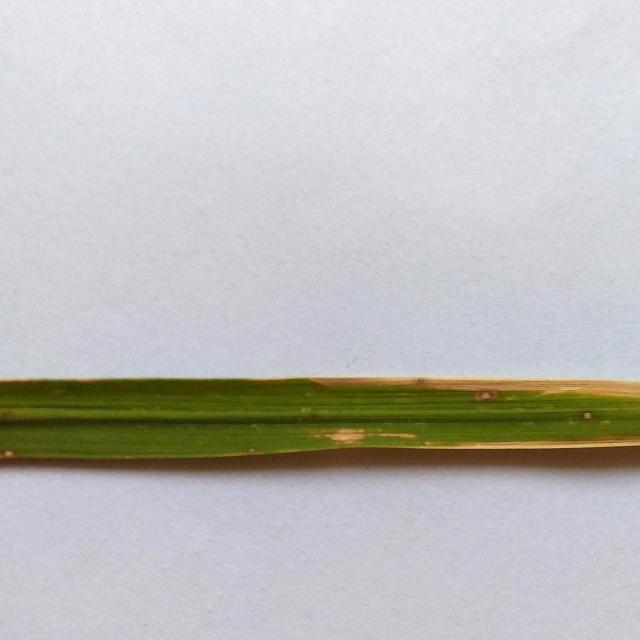Leaf_Blast: (289, 405, 425, 456), (561, 401, 603, 429), (470, 382, 505, 415)
